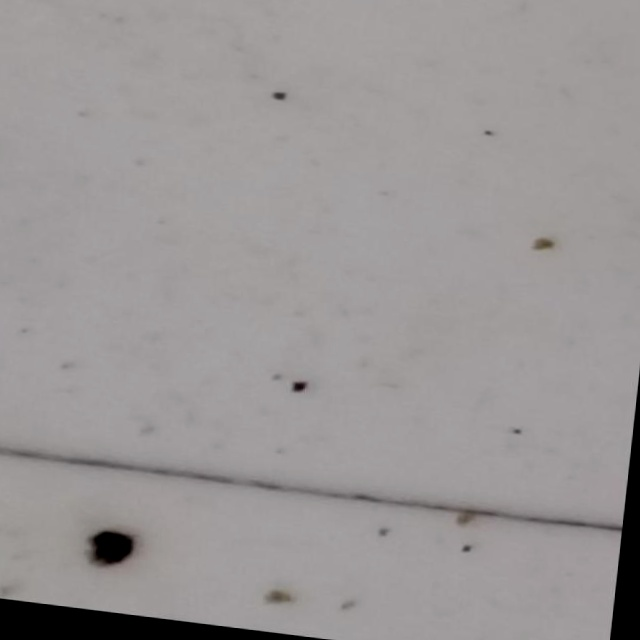varroa: (81, 535, 140, 578)
